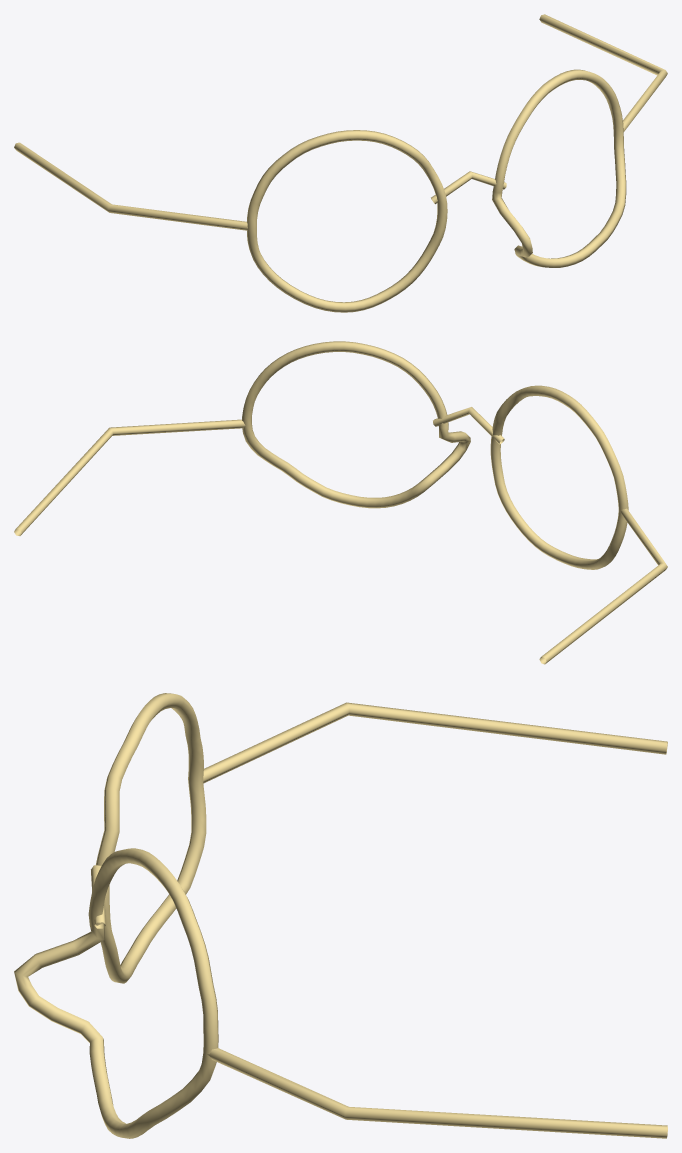
File: restart_glasses_round_chick.glb
3 renders of one model, top to bottom at view 1: azimuth 30°, elevation 25°; view 2: azimuth 150°, elevation 25°; view 3: azimuth 270°, elevation 25°, orthographic. The views are drawn at different scales.
Parts seen in each view (by area): view 1: Montura.020, Montura.021, Patilla curva.020, Patilla curva.021, Puente nasal.010; view 2: Montura.021, Montura.020, Patilla curva.021, Patilla curva.020, Puente nasal.010; view 3: Montura.021, Montura.020, Patilla curva.020, Patilla curva.021.
Part boxes in pixels (x1,y1,x2,y2): Montura.020: (247, 130, 447, 312); Montura.021: (492, 69, 626, 267); Patilla curva.020: (14, 142, 247, 230); Patilla curva.021: (539, 14, 667, 132); Puente nasal.010: (431, 171, 506, 204); Montura.021: (242, 341, 470, 508); Montura.020: (490, 385, 628, 569); Patilla curva.021: (14, 419, 245, 535); Patilla curva.020: (539, 508, 667, 664); Puente nasal.010: (433, 407, 504, 444); Montura.021: (14, 848, 218, 1138); Montura.020: (96, 693, 206, 983); Patilla curva.020: (203, 702, 667, 783); Patilla curva.021: (207, 1048, 667, 1138).
Size of the model in its own units: 0.7273 by 0.218 by 0.4909.
